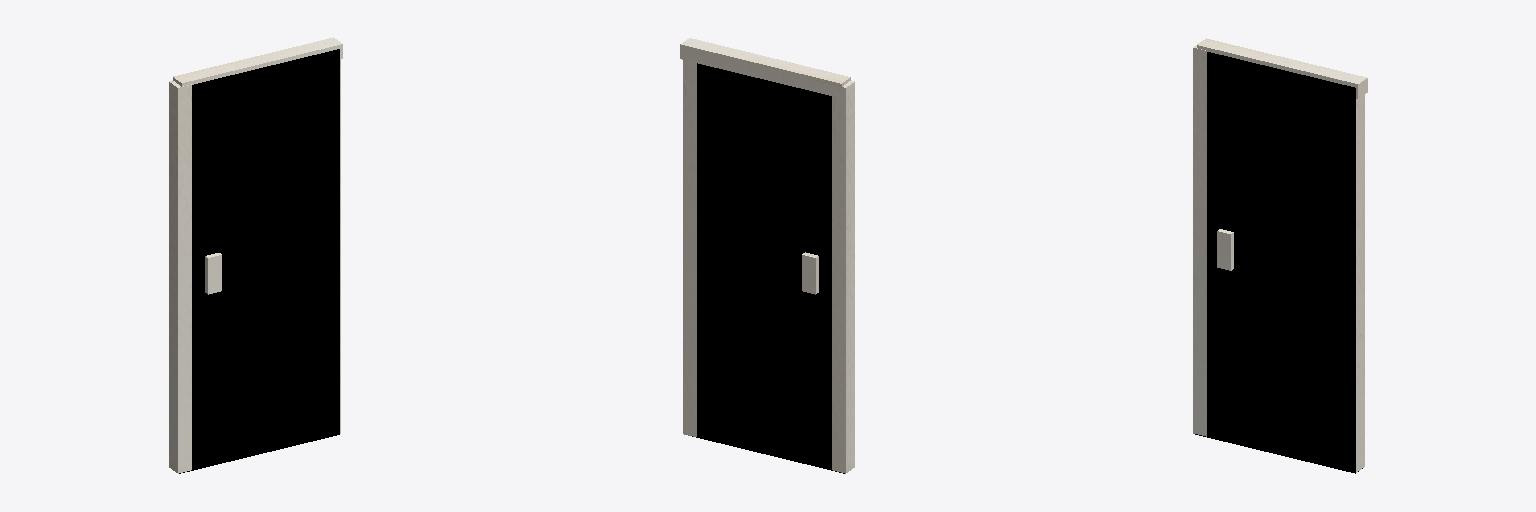
3 renders of one model, left to right at view 1: azimuth 30°, elevation 25°; view 2: azimuth 150°, elevation 25°; view 3: azimuth 330°, elevation 25°, orthographic.
Visible parts, largest first — view 1: pasted__pCube54 group; view 2: pasted__pCube54 group; view 3: pasted__pCube54 group.
Boxes of the visible parts, x1=… form: pasted__pCube54 group: x1=169, y1=37, x2=342, y2=473; pasted__pCube54 group: x1=680, y1=38, x2=854, y2=473; pasted__pCube54 group: x1=1193, y1=38, x2=1367, y2=473.
Size of the model in its own units: 1.26 by 2.85 by 0.201.
2 materials, 1 textured.